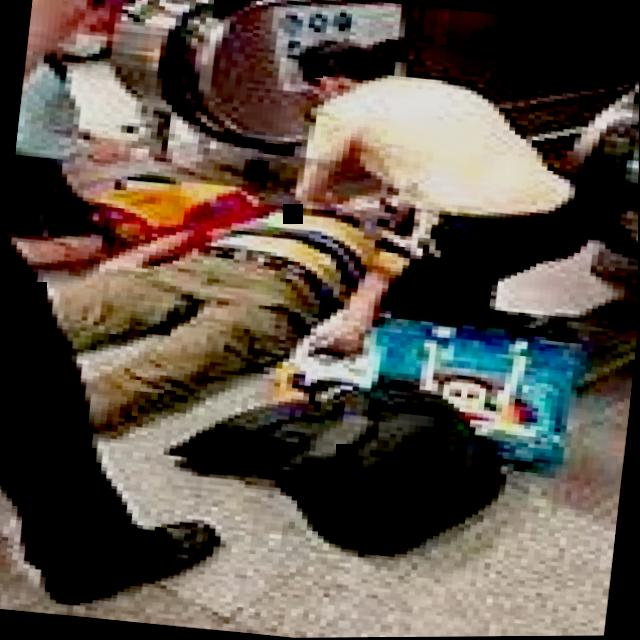Fall-Detected: (0, 124, 486, 472)
